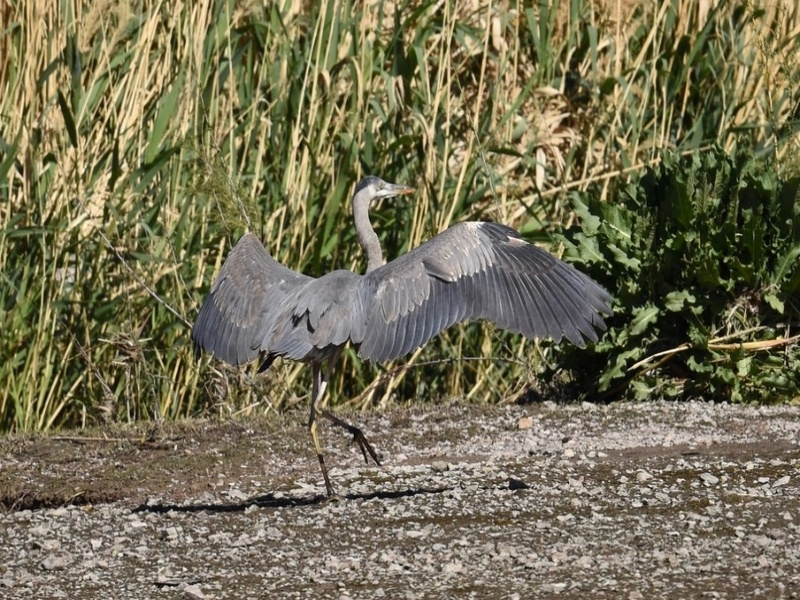heron: (187, 176, 619, 503)
